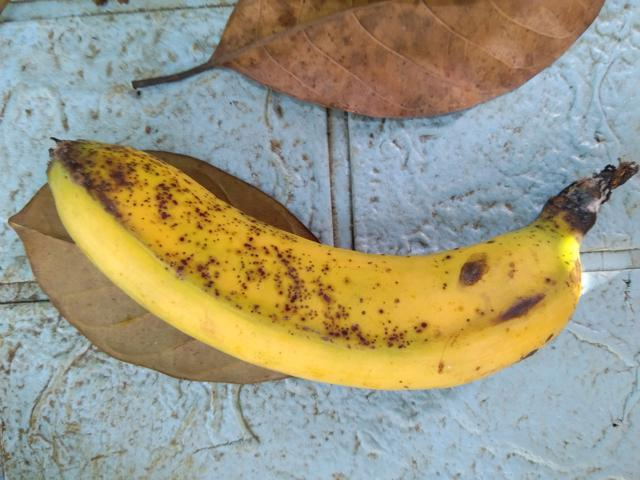ripe: (50, 104, 597, 396)
